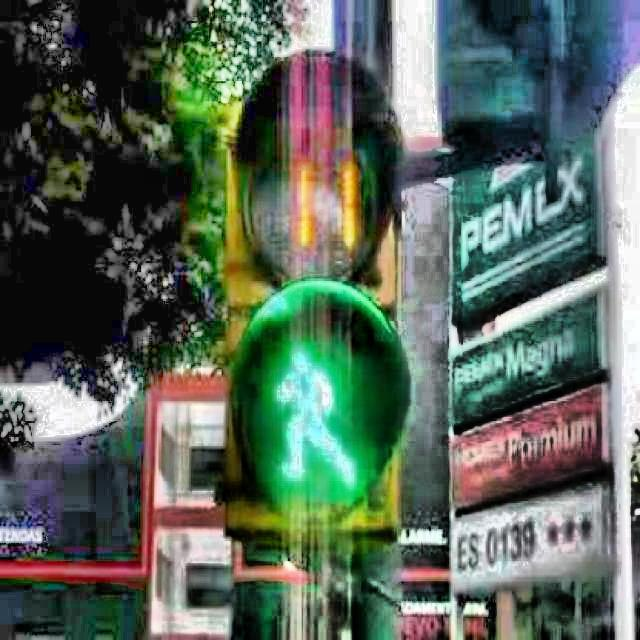semaforo pedestre: (156, 36, 468, 592)
